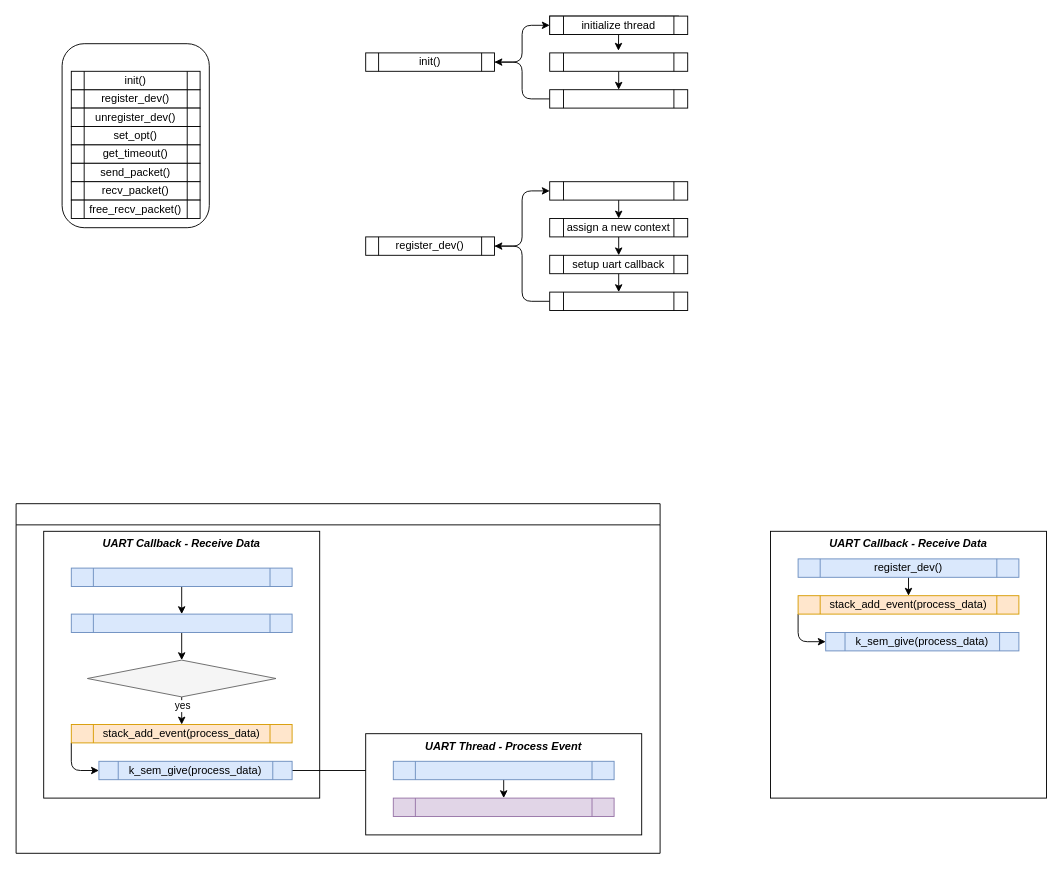
Image size: 1063x869. Some labels were removed from this diagram. The shapes that lost their labels are listed below. From the top down, each one's box as (x1, y1, x2, y2) in pixels, then its label:
(549, 52, 688, 71): initialize semaphores
(549, 89, 688, 108): initialize recv buffers
(61, 43, 209, 228): Interfaces
(549, 181, 688, 200): check device is ready
(549, 291, 688, 310): enable uart receive
(70, 567, 292, 586): get_device_context()
(70, 613, 292, 632): add_recv_data_to_ring_buffer()
(86, 659, 276, 697): enouh data to process?
(15, 503, 660, 853): UART Receive Event
(392, 760, 614, 780): k_sem_take(process_data)
(392, 797, 614, 816): assembler_process_data
